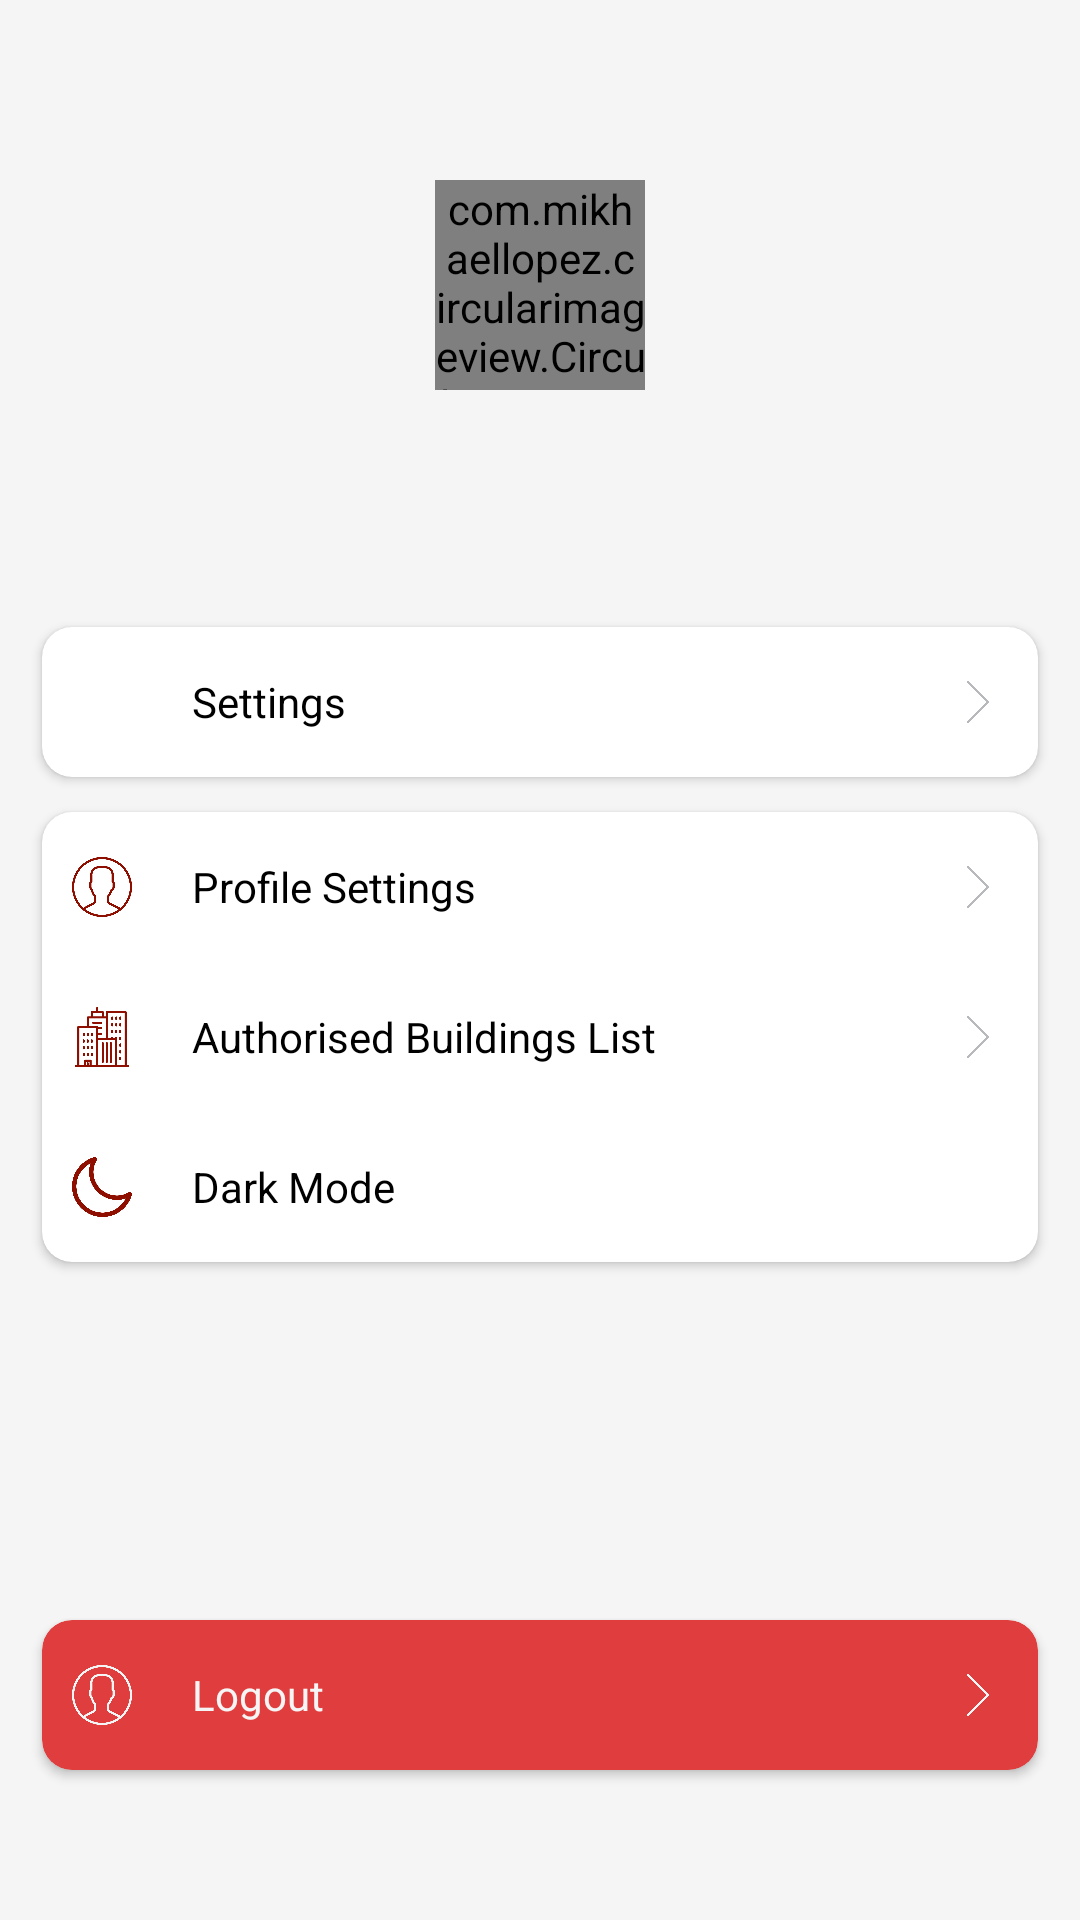

Locate icon controls on the screen. Image size 1080px×1920px, boxes as (x1, y1, x2, y2).
user: (72, 857, 132, 917), (72, 1665, 132, 1725)
